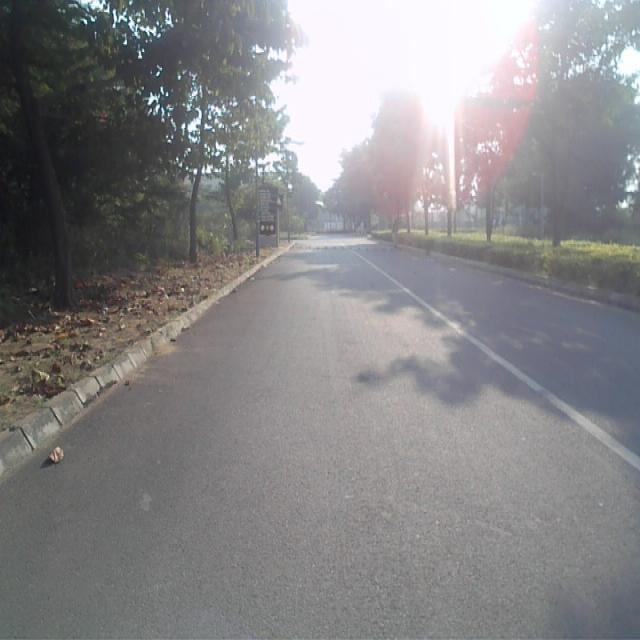lane: (0, 238, 640, 640)
